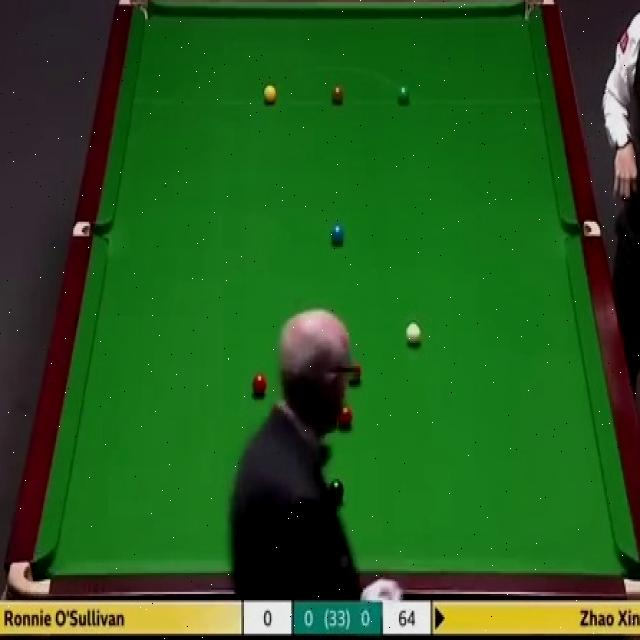black-ball: (328, 479, 345, 501)
blue-ball: (330, 222, 345, 247)
brown-ball: (330, 84, 344, 104)
green-ball: (396, 84, 410, 104)
red-ball: (251, 371, 268, 396), (339, 406, 352, 430)
white-ball: (405, 320, 421, 348)
yellow-ball: (264, 83, 276, 105)
